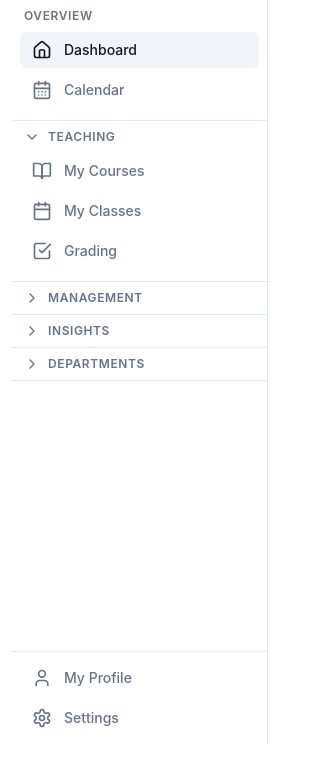
Sidebar Component - Section-Based Navigation › Departments Section › should display error message when switch fails
Expand departments section
Click the button "Departments": (140, 364) 12,348 -> 267,380
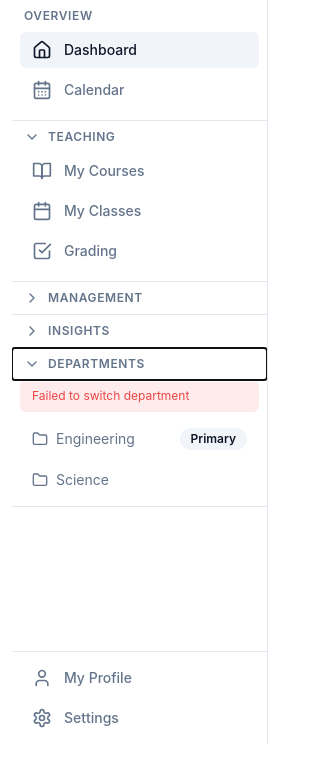
Check: the text "Failed to switch department" is shown, box 20,380 -> 259,412
